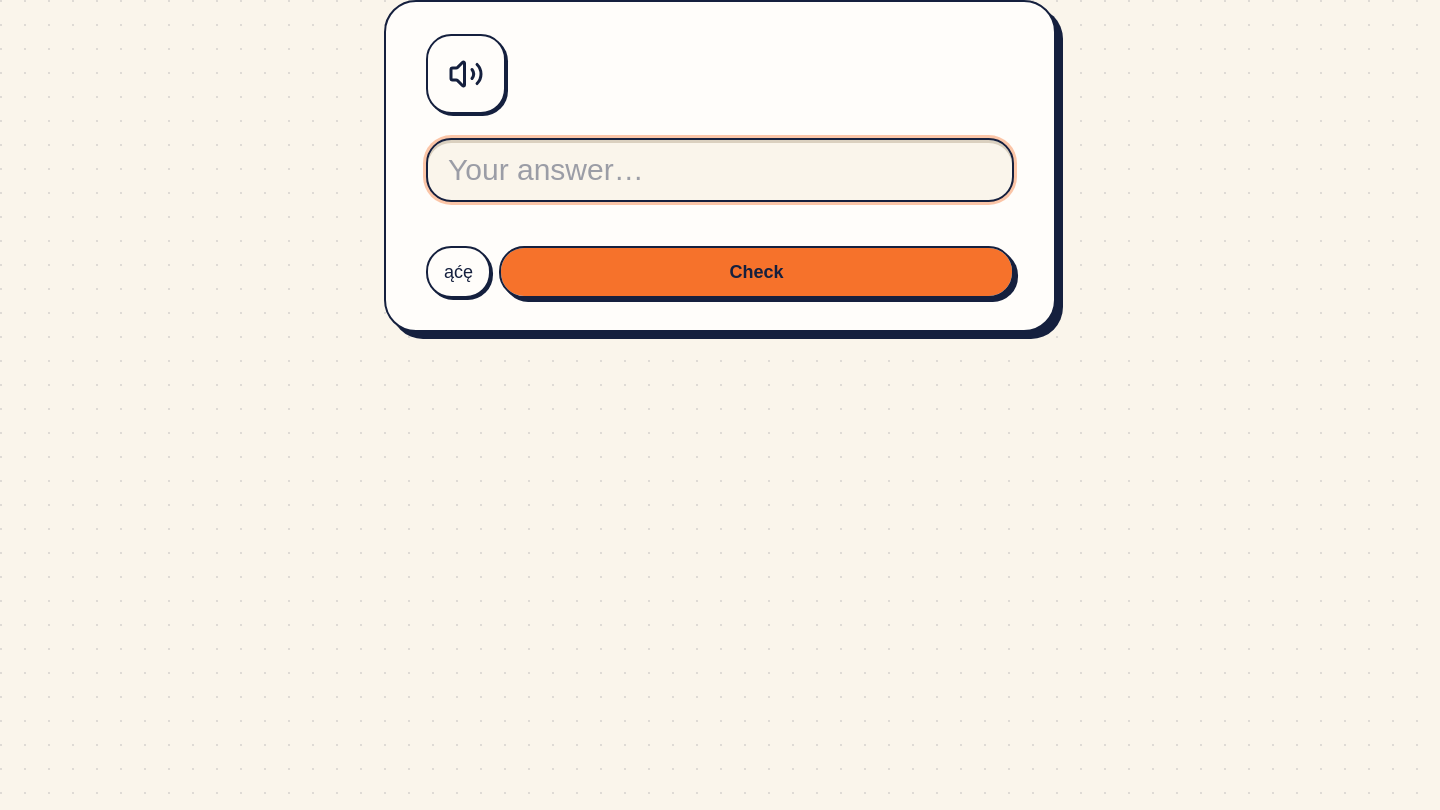
Scenario: a right answer shows the word with its tricky spellings marked
The image size is (1440, 810).
Type "żółw" into the field labelled "answer" at (720,170), box top-left (426, 138), bottom-right (1014, 202)
Then press Enter
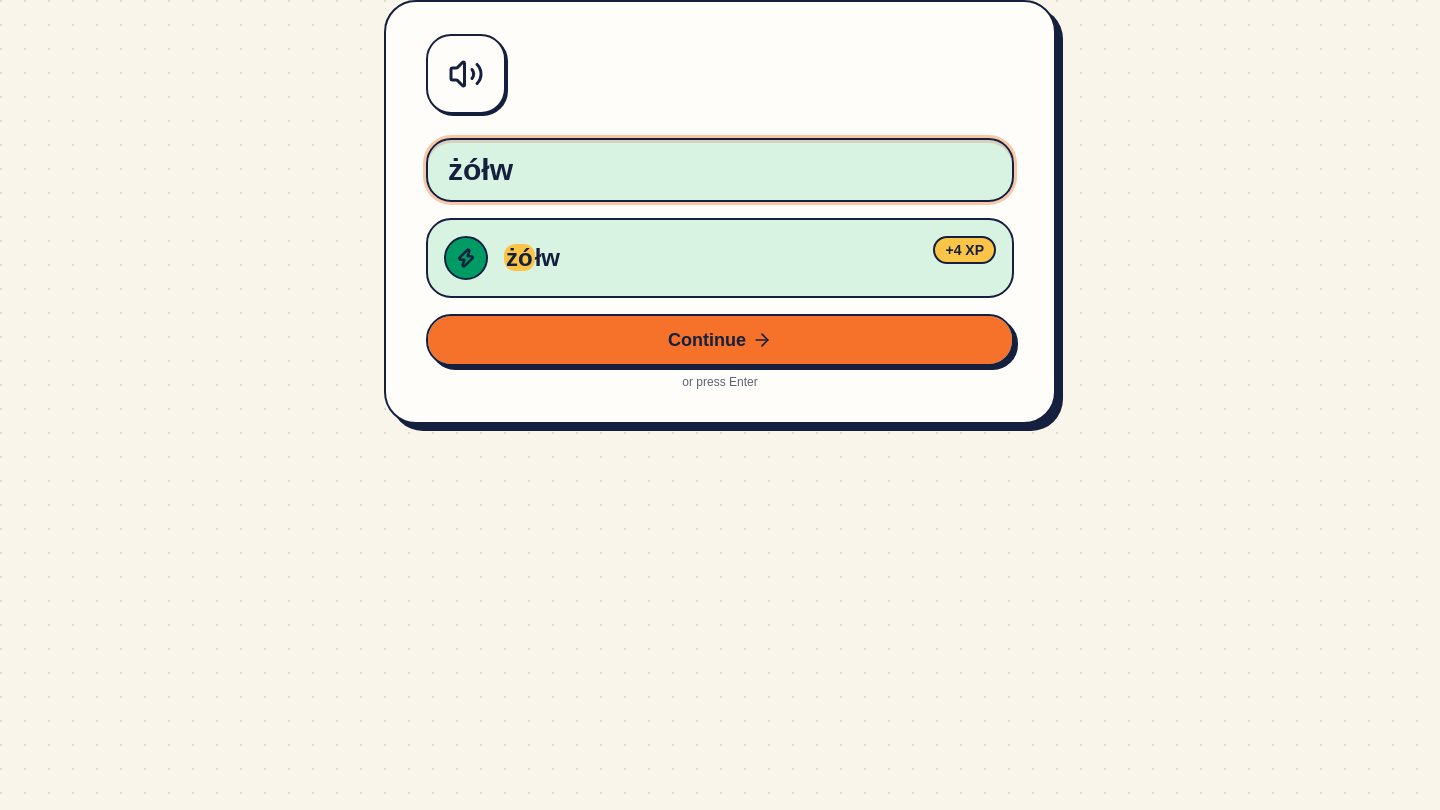
Expected: the message does not show "means", top-left (426, 218), bottom-right (1014, 298)
Now the message shows "żółw", box top-left (426, 218), bottom-right (1014, 298)
Now the elements "." read "żó", in this order, box top-left (504, 244), bottom-right (535, 271)
